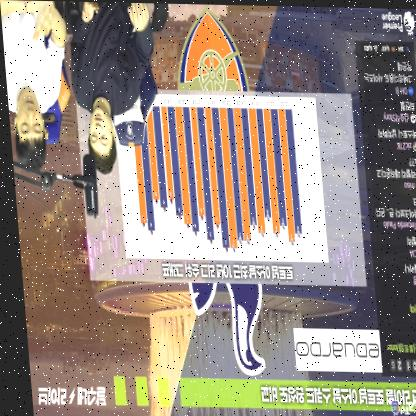streamer: (65, 1, 162, 177), (0, 0, 75, 174)
